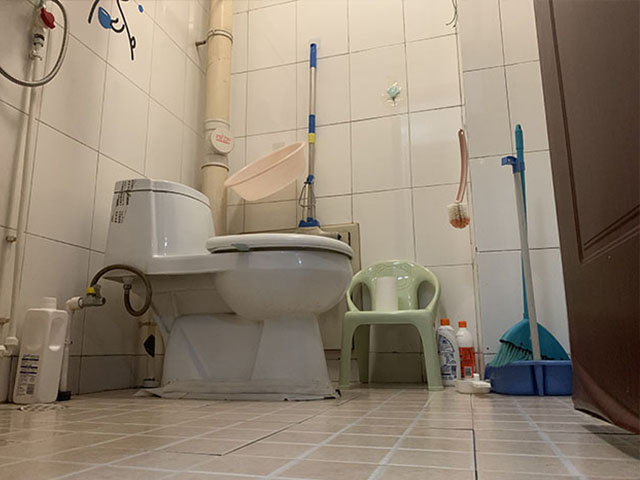closestool: (104, 176, 356, 401)
stool: (337, 259, 446, 391)
